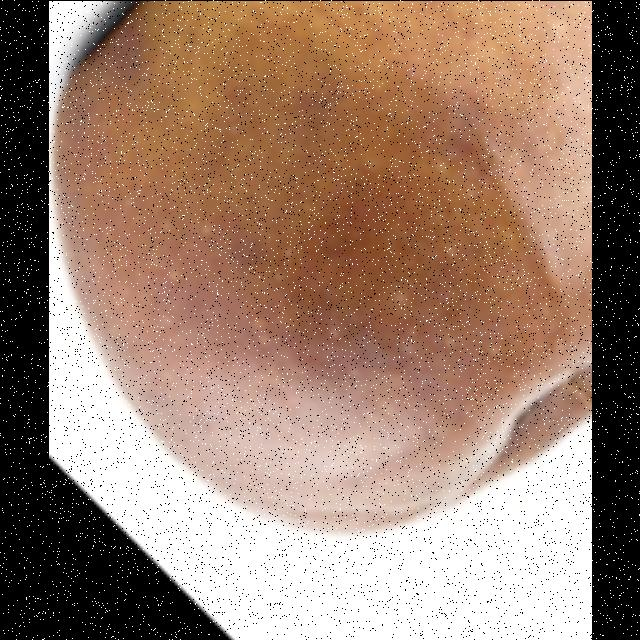Apel Tidak Segar: (56, 1, 592, 536)
